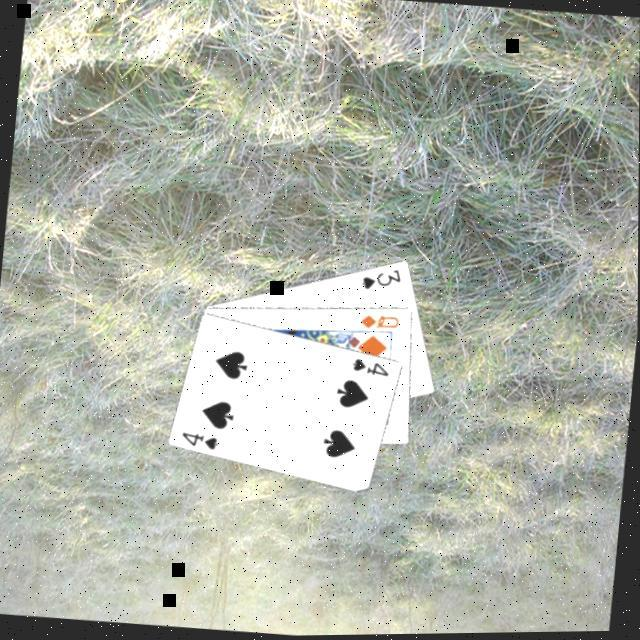3S: (360, 265, 406, 298)
4S: (350, 356, 395, 383), (179, 430, 224, 457)
QD: (358, 311, 405, 337)
